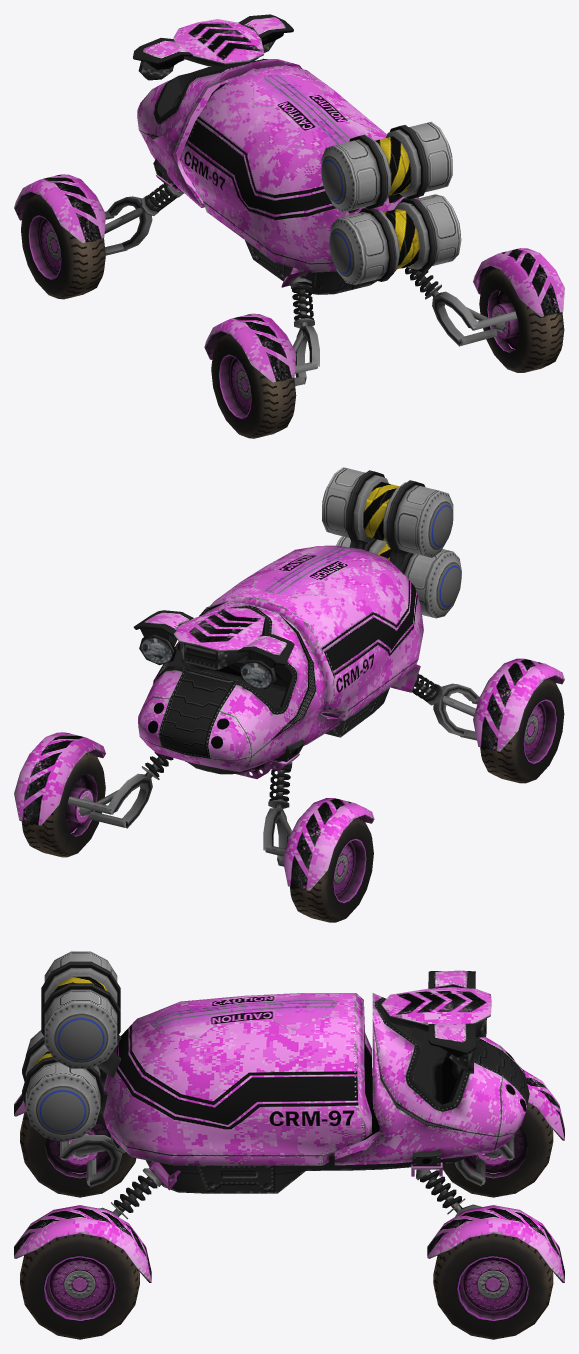
The model's file is rover_pink_camo.dae.
The picture shows the model from 3 angles, top to bottom: view 1: azimuth 30°, elevation 25°; view 2: azimuth 150°, elevation 25°; view 3: azimuth 270°, elevation 25°; orthographic projection. The views are drawn at different scales.
Parts seen in each view (by area): view 1: body, OilTank002, OilTank003, object 2, wheel001, wheel, wheel003, pop_up, wheel_well, wheel_well001, wheel_well003, object 17 (+6 smaller); view 2: object 2, body, OilTank002, pop_up, wheel001, wheel, wheel_well, wheel_well001, wheel_well002, wheel002, OilTank003, Cylinder050 (+6 smaller); view 3: body, object 2, wheel002, wheel003, OilTank002, OilTank003, pop_up, Cylinder014, wheel, wheel001, wheel_well003, wheel_well002 (+8 smaller).
Boxes of the visible parts, x1,y1,x2,y2 form: body: (179,65,418,272); OilTank002: (321,121,452,213); OilTank003: (329,194,461,284); object 2: (137,58,302,207); wheel001: (211,333,296,438); wheel: (21,194,105,299); wheel003: (479,268,564,372); pop_up: (173,14,293,66); wheel_well: (14,174,105,243); wheel_well001: (204,313,296,382); wheel_well003: (473,248,564,317); object 17: (253,75,345,153); object 2: (138,601,341,772); body: (210,545,423,720); OilTank002: (322,467,453,570); pop_up: (133,607,264,669); wheel001: (480,678,564,783); wheel: (290,818,373,922); wheel_well: (282,798,374,891); wheel_well001: (473,658,564,751); wheel_well002: (14,732,105,825); wheel002: (21,752,105,857); OilTank003: (336,536,461,618); Cylinder050: (67,752,173,828); body: (103,993,371,1165); object 2: (334,993,529,1166); wheel002: (433,1234,553,1339); wheel003: (20,1234,139,1339); OilTank002: (41,951,121,1077); OilTank003: (22,1030,107,1141); pop_up: (381,987,491,1073); Cylinder014: (145,1156,469,1193); wheel: (442,1103,553,1197); wheel001: (20,1112,136,1197); wheel_well003: (14,1205,151,1282); wheel_well002: (427,1205,564,1282).
Size of the model in its own units: 2.17 by 3.03 by 1.75.
1 material, 1 textured.
